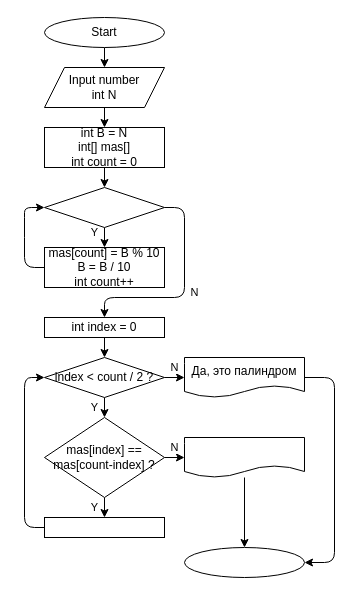
This 360x595 diagram has some shape labels left out. The shapes that lost their labels are listed below. From the top down, each one's centre as x and y in pixels, then its label:
the point at 104,207: B > 1 ?
the point at 244,457: Нет, не палидром
the point at 104,527: index++
the point at 244,562: End
